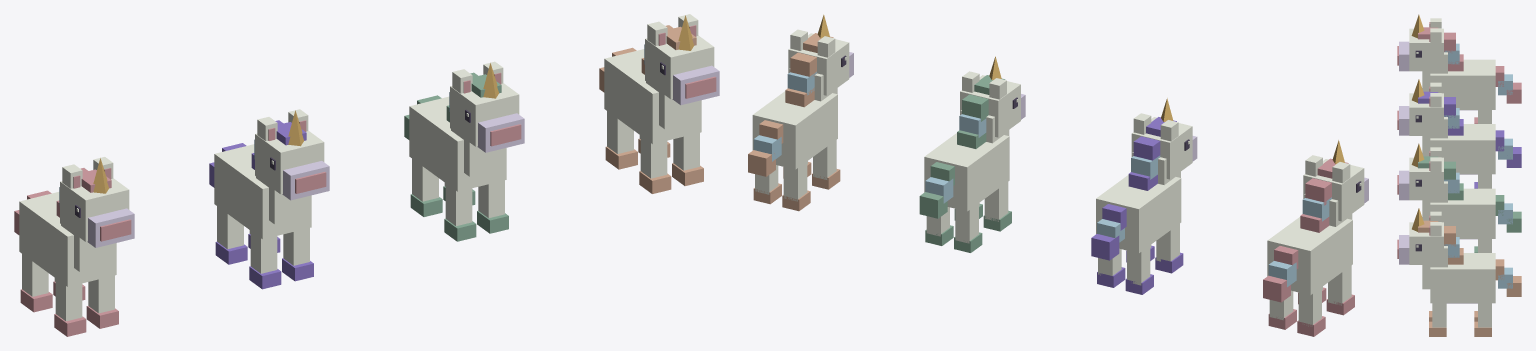
The model's file is unicorn-npcs.glb.
3 views of the same model, side by side, from view 1: azimuth 30°, elevation 25°; view 2: azimuth 150°, elevation 25°; view 3: azimuth 270°, elevation 25° (orthographic). The views are drawn at different scales.
Parts seen in each view (by area): view 1: Unicorn_3_Meadow cream, Unicorn_2_Meadow cream, Unicorn_0_Meadow cream, Unicorn_1_Meadow cream, Leg_Front_L.002_Meadow cream, Leg_Front_L_Meadow cream, Leg_Front_L.001_Meadow cream, Unicorn_2_Pale lavender, Unicorn_3_Pale lavender, Unicorn_0_Pale lavender, Unicorn_1_Pale lavender, Leg_Front_L.003_Meadow cream (+21 smaller); view 2: Unicorn_0_Meadow cream, Unicorn_2_Meadow cream, Unicorn_3_Meadow cream, Unicorn_1_Meadow cream, Unicorn_2_Mint mane, Unicorn_3_Peach mane, Unicorn_0_Rose mane, Unicorn_1_Lavender mane, Tail.001_Lavender mane, Tail.002_Mint mane, Tail.003_Peach mane, Tail_Rose mane (+16 smaller); view 3: Unicorn_3_Meadow cream, Unicorn_1_Meadow cream, Unicorn_2_Meadow cream, Unicorn_0_Meadow cream, Unicorn_0_Rose mane, Unicorn_1_Lavender mane, Unicorn_3_Peach mane, Unicorn_2_Mint mane, Tail_Rose mane, Tail.003_Peach mane, Tail.002_Mint mane, Tail.001_Lavender mane (+23 smaller).
Part boxes in pixels (x1,y1,x2,y2): Unicorn_3_Meadow cream: [604, 14, 714, 144]; Unicorn_2_Meadow cream: [409, 61, 519, 191]; Unicorn_0_Meadow cream: [19, 157, 129, 286]; Unicorn_1_Meadow cream: [214, 109, 324, 239]; Leg_Front_L.002_Meadow cream: [445, 178, 472, 226]; Leg_Front_L_Meadow cream: [55, 273, 82, 321]; Leg_Front_L.001_Meadow cream: [250, 226, 277, 273]; Unicorn_2_Pale lavender: [477, 113, 524, 152]; Unicorn_3_Pale lavender: [672, 65, 719, 105]; Unicorn_0_Pale lavender: [87, 208, 134, 247]; Unicorn_1_Pale lavender: [282, 161, 329, 200]; Leg_Front_L.003_Meadow cream: [640, 135, 667, 178]; Unicorn_0_Meadow cream: [1267, 155, 1364, 295]; Unicorn_2_Meadow cream: [924, 71, 1020, 211]; Unicorn_3_Meadow cream: [752, 29, 849, 169]; Unicorn_1_Meadow cream: [1096, 113, 1192, 253]; Unicorn_2_Mint mane: [957, 75, 1005, 148]; Unicorn_3_Peach mane: [785, 33, 833, 107]; Unicorn_0_Rose mane: [1300, 158, 1348, 232]; Unicorn_1_Lavender mane: [1128, 117, 1176, 190]; Tail.001_Lavender mane: [1091, 204, 1126, 260]; Tail.002_Mint mane: [919, 162, 954, 218]; Tail.003_Peach mane: [748, 120, 783, 176]; Tail_Rose mane: [1263, 246, 1298, 302]; Unicorn_3_Meadow cream: [1409, 211, 1495, 303]; Unicorn_1_Meadow cream: [1409, 82, 1495, 174]; Unicorn_2_Meadow cream: [1409, 147, 1495, 238]; Unicorn_0_Meadow cream: [1409, 18, 1495, 109]; Unicorn_0_Rose mane: [1418, 27, 1463, 71]; Unicorn_1_Lavender mane: [1418, 91, 1463, 135]; Unicorn_3_Peach mane: [1418, 220, 1463, 264]; Unicorn_2_Mint mane: [1418, 156, 1463, 200]; Tail_Rose mane: [1495, 66, 1521, 103]; Tail.003_Peach mane: [1495, 259, 1521, 296]; Tail.002_Mint mane: [1495, 195, 1521, 232]; Tail.001_Lavender mane: [1495, 130, 1521, 167].
Size of the model in its own units: 7.02 by 1.88 by 1.75.
